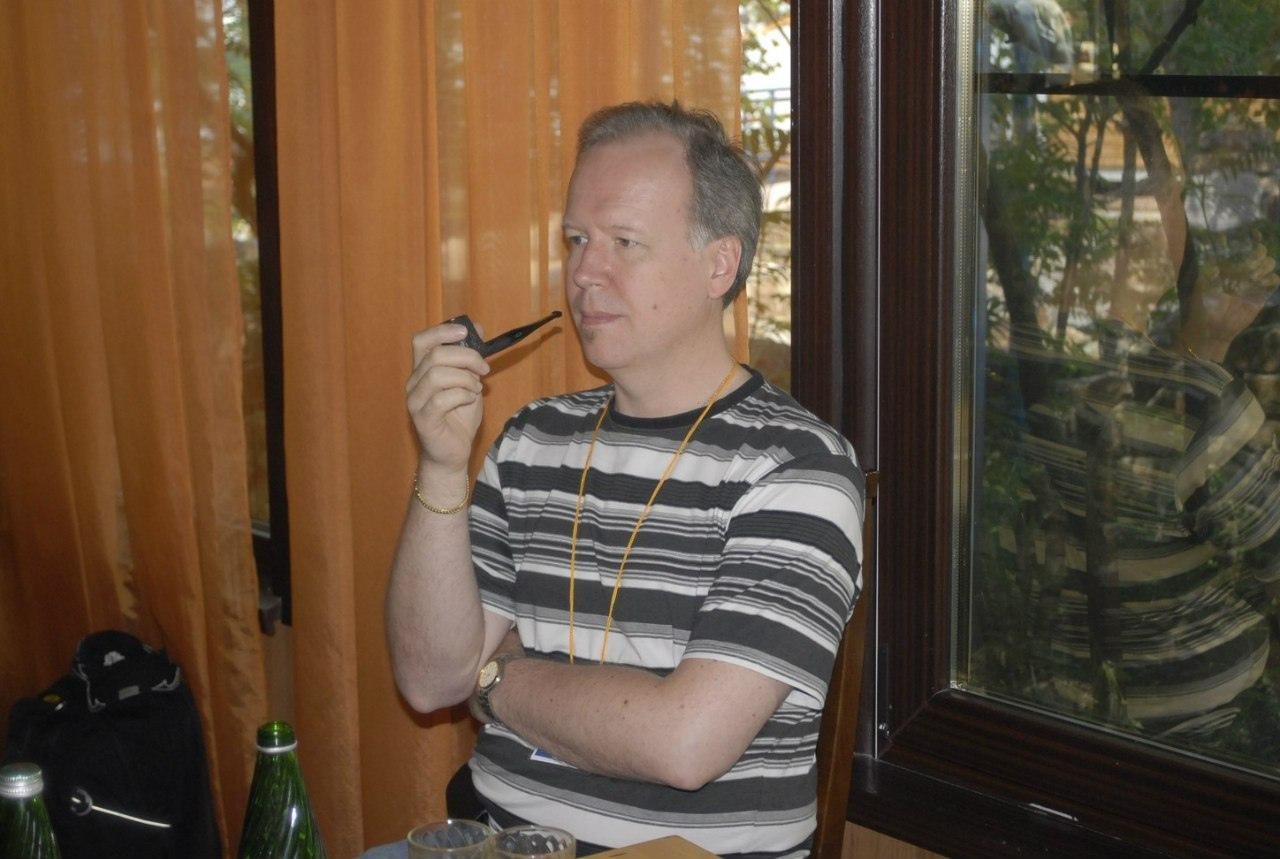trubka: (440, 310, 563, 358)
